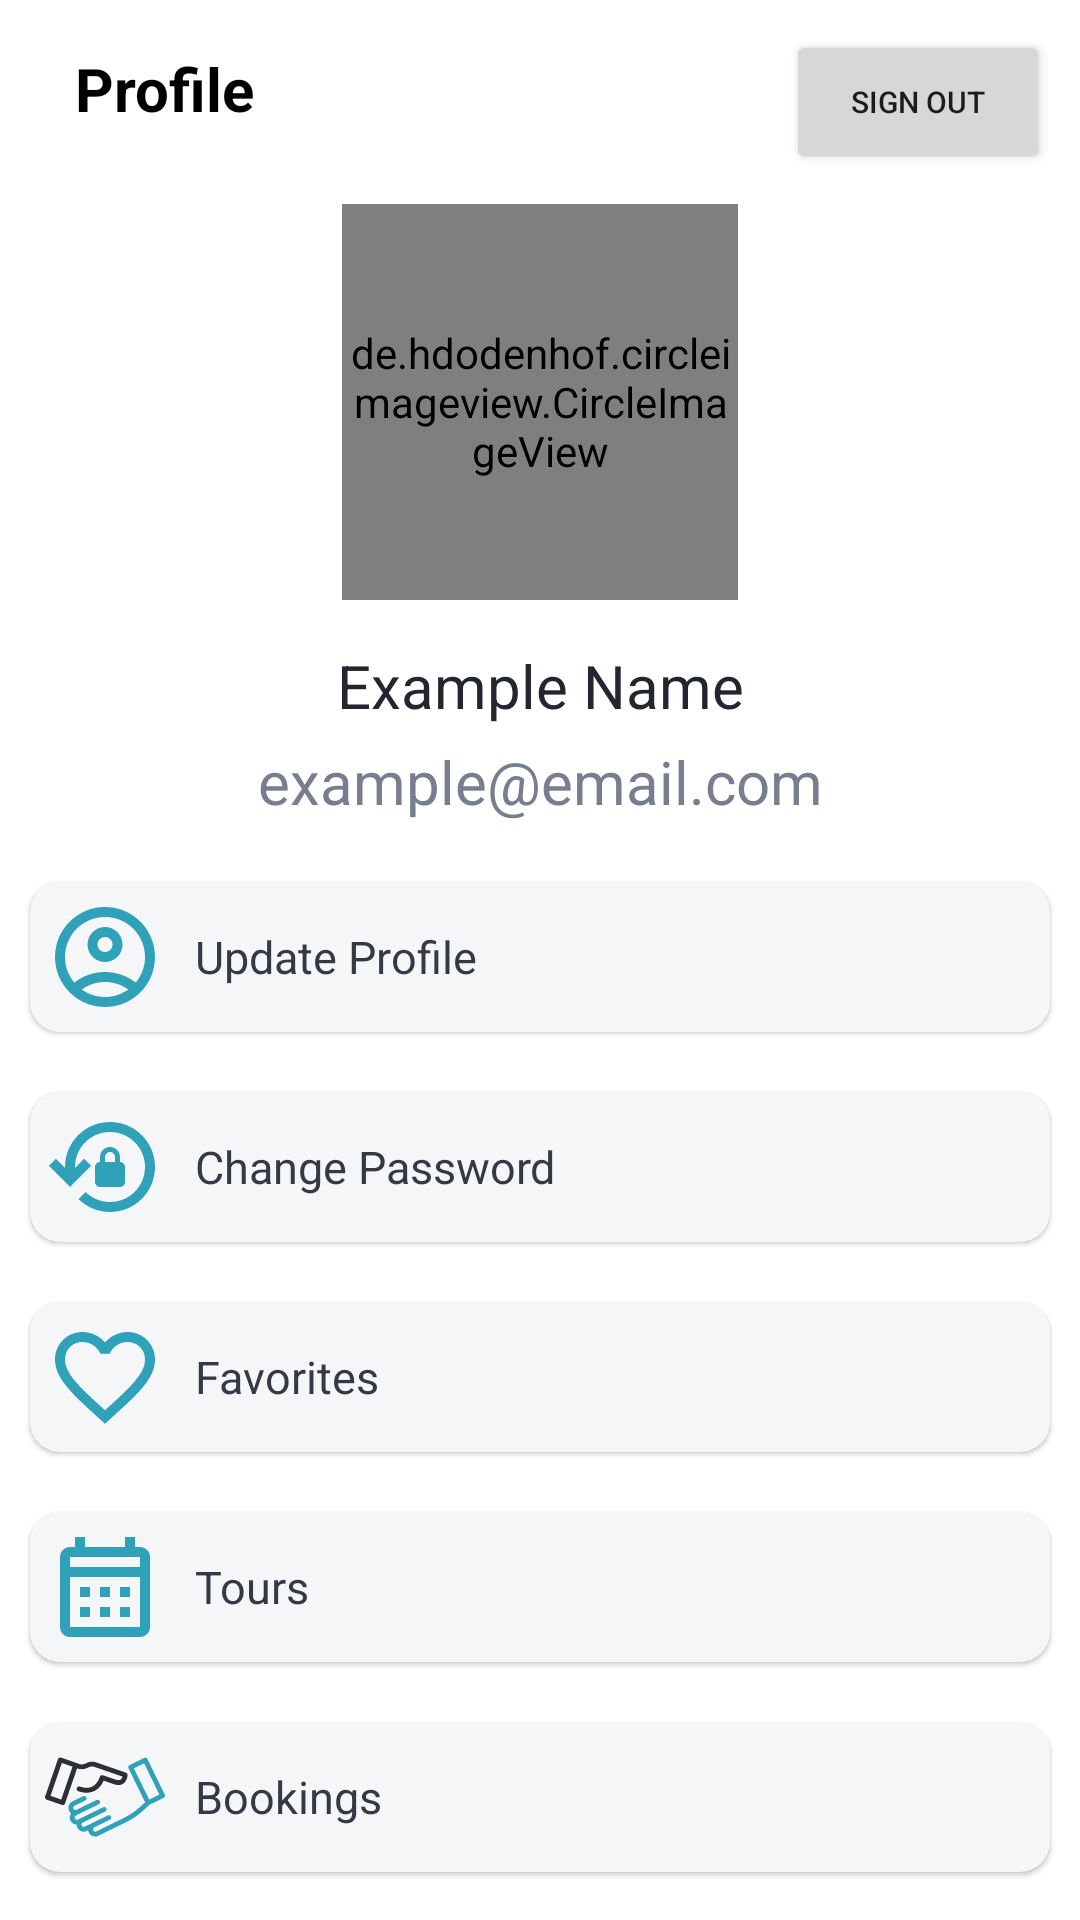

Locate icon controls on the screen. Image size 1080 × 1920, boxes as (x1, y1, x2, y2).
account circle: (55, 907, 155, 1007)
calendar month: (60, 1537, 150, 1637)
favorite border: (55, 1332, 155, 1424)
handshake: (45, 1757, 165, 1837)
lock reset: (49, 1122, 155, 1212)
